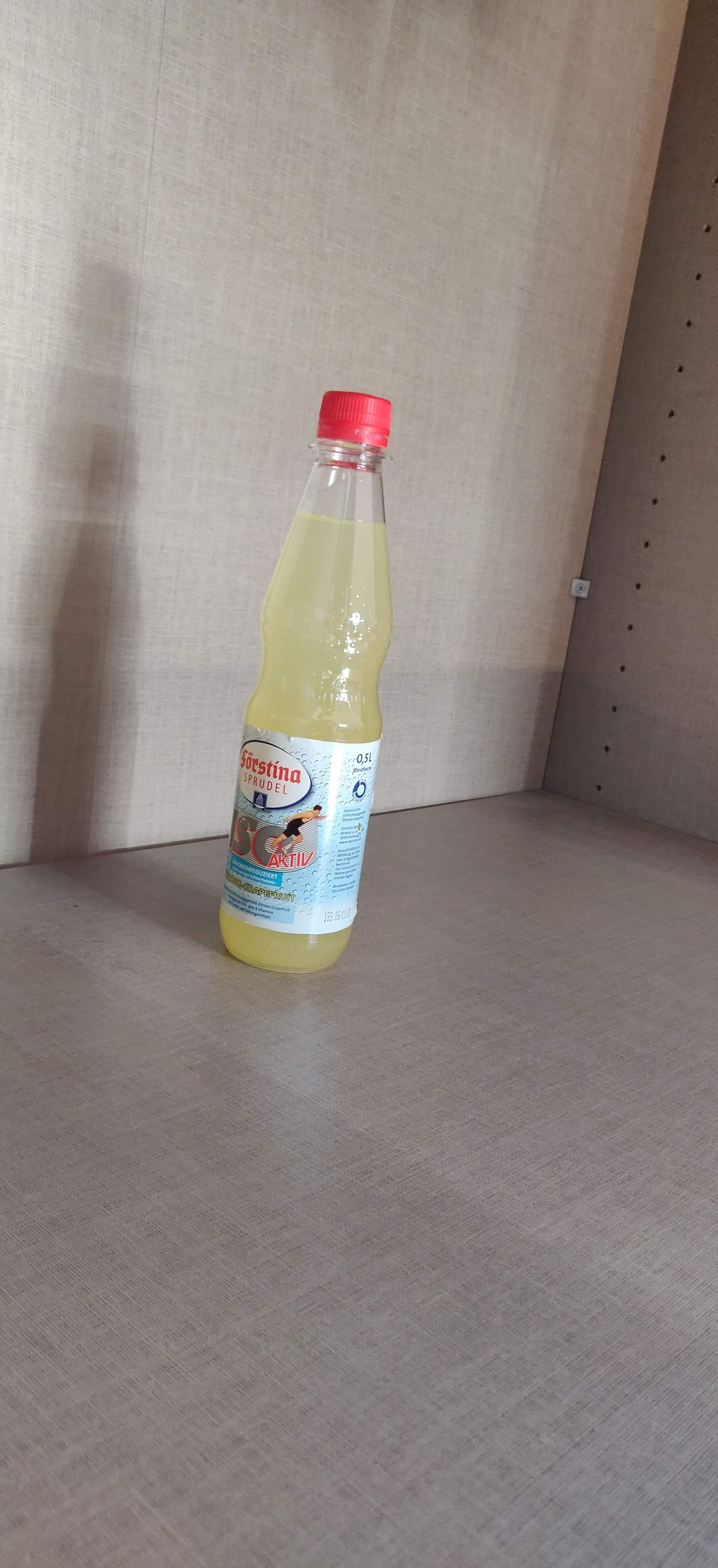bottle-plastic: (217, 385, 399, 978)
